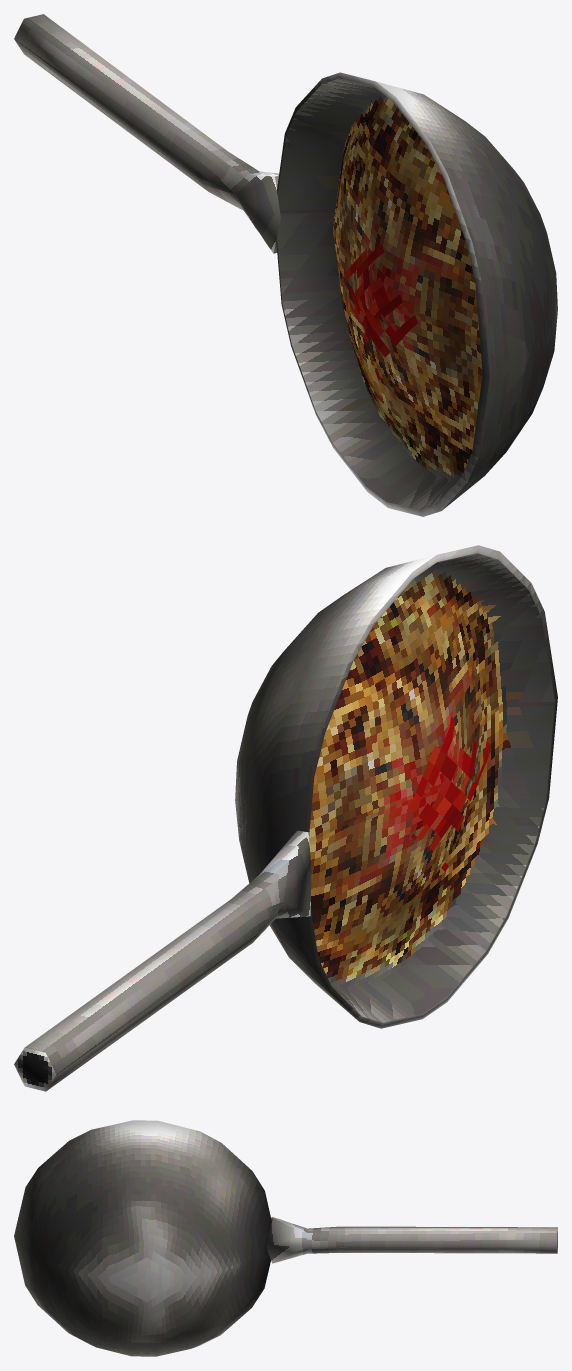
3 views of the same model, one above another, from view 1: azimuth 30°, elevation 25°; view 2: azimuth 150°, elevation 25°; view 3: azimuth 270°, elevation 25° (orthographic). The views are drawn at different scales.
Visible parts, largest first — view 1: weapon/we387.pac; view 2: weapon/we387.pac; view 3: weapon/we387.pac.
Part boxes in pixels (x1=…): weapon/we387.pac: x1=14, y1=14, x2=557, y2=516; weapon/we387.pac: x1=14, y1=545, x2=557, y2=1091; weapon/we387.pac: x1=14, y1=1120, x2=557, y2=1356.
Bounding box in the file's own units: 41.52 × 96.34 × 200.
2 materials, 2 textured.
